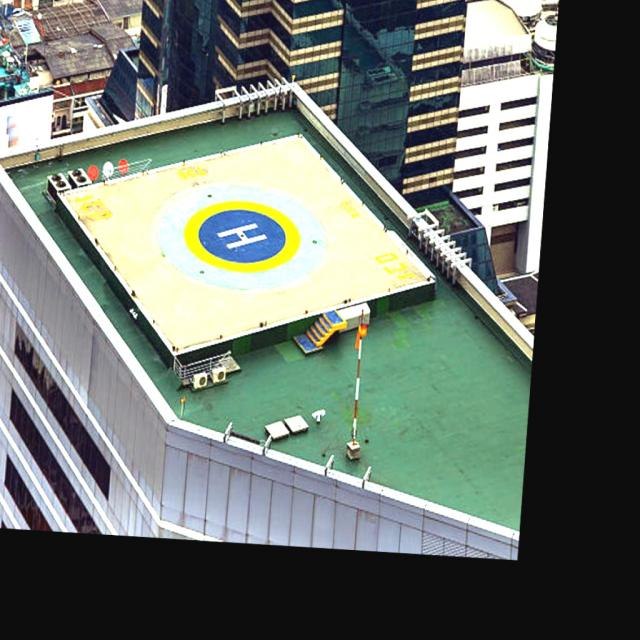helipad: (180, 197, 302, 274)
